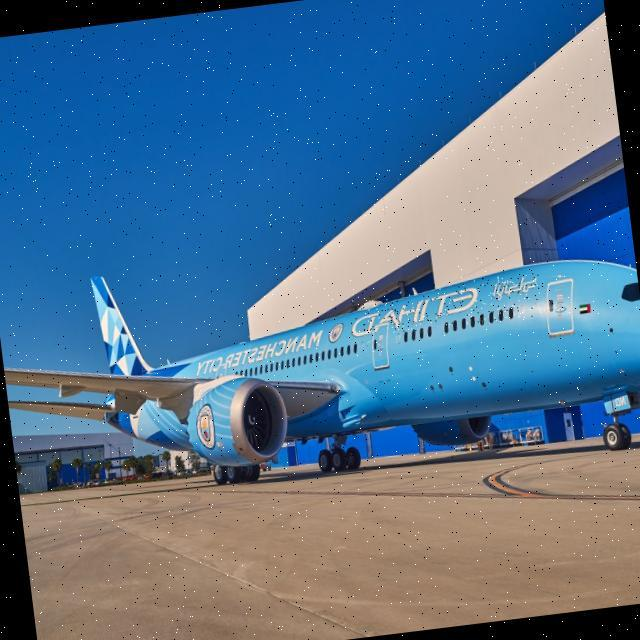Etihad Airways: (347, 271, 543, 338)
